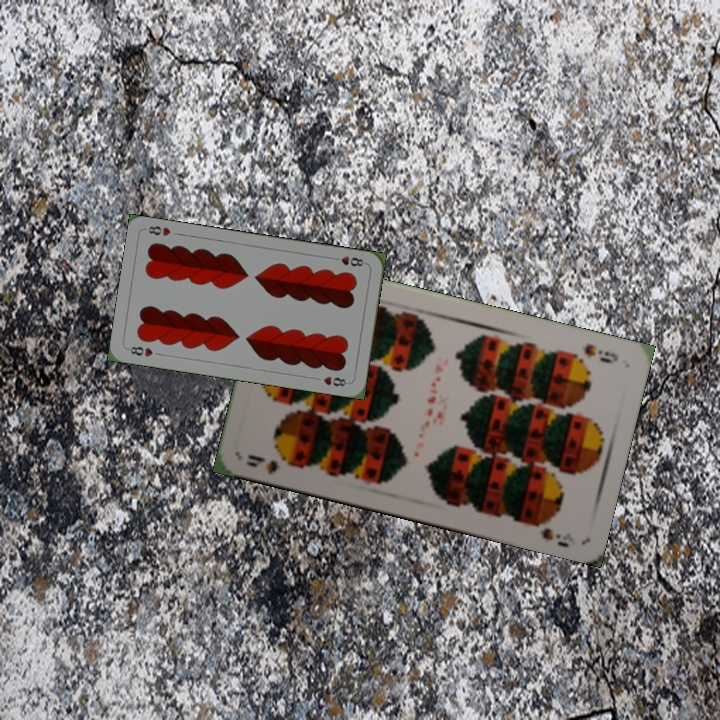H8: (328, 252, 369, 269), (123, 342, 156, 359)
S9: (242, 450, 300, 477), (579, 339, 621, 366)
